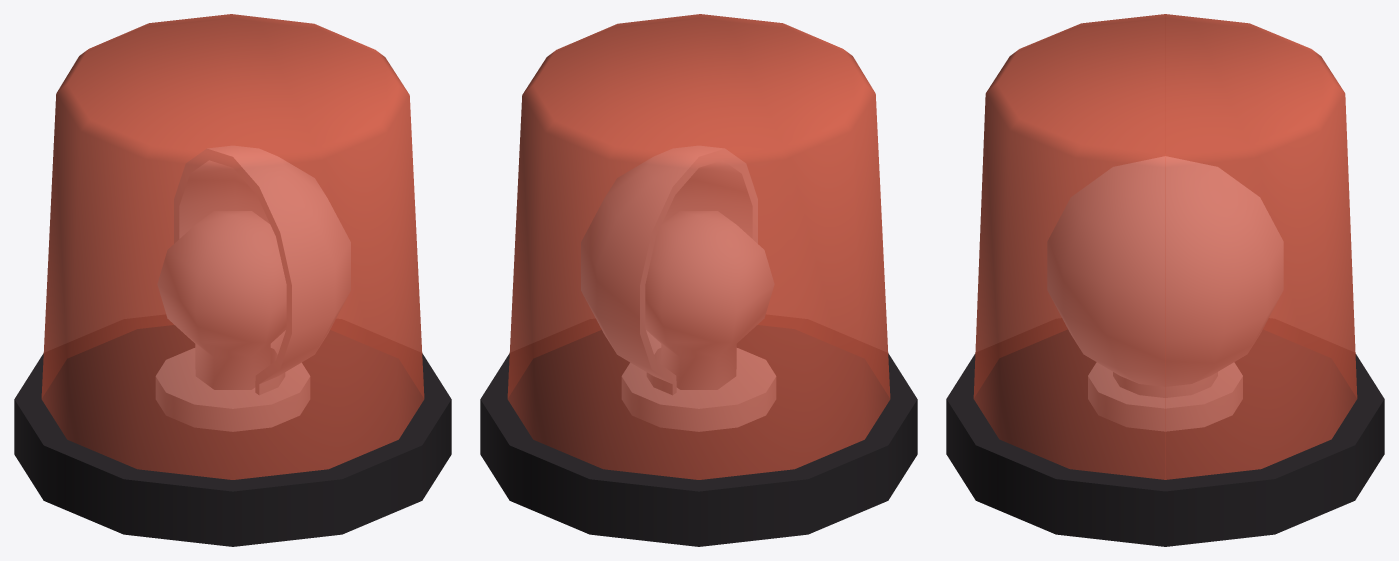
Rendered from Office_LightBeacon_1.fbx.
3 renders of one model, left to right at view 1: azimuth 30°, elevation 25°; view 2: azimuth 150°, elevation 25°; view 3: azimuth 270°, elevation 25°, orthographic.
Visible parts, largest first — view 1: Office_LightBeacon_1, Office_LightBeacon_1_Rotator; view 2: Office_LightBeacon_1, Office_LightBeacon_1_Rotator; view 3: Office_LightBeacon_1, Office_LightBeacon_1_Rotator.
Boxes of the visible parts, <box> form: Office_LightBeacon_1: <box>14,14,451,546</box>; Office_LightBeacon_1_Rotator: <box>174,146,350,394</box>; Office_LightBeacon_1: <box>480,14,917,546</box>; Office_LightBeacon_1_Rotator: <box>581,146,757,394</box>; Office_LightBeacon_1: <box>946,14,1384,546</box>; Office_LightBeacon_1_Rotator: <box>1047,156,1283,397</box>.
Size of the model in its own units: 15.98 by 14.92 by 15.98.
